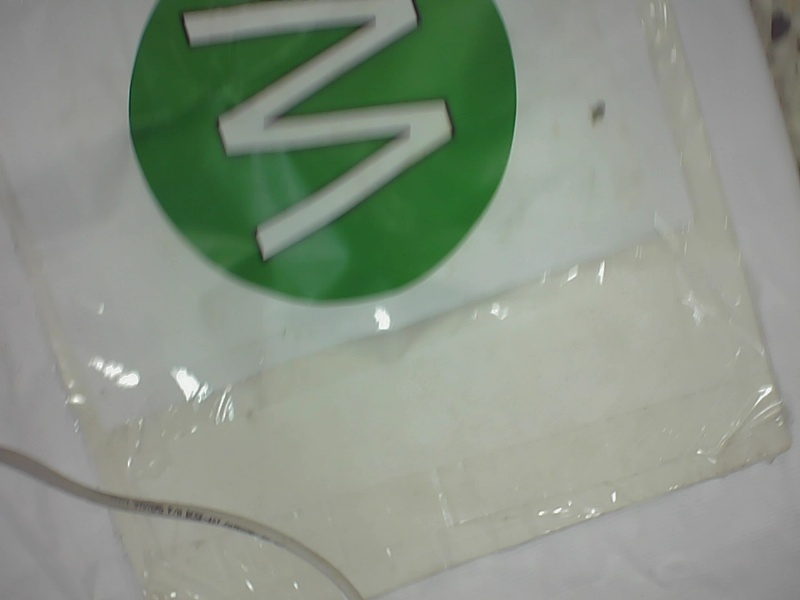areaB: (103, 1, 531, 311)
